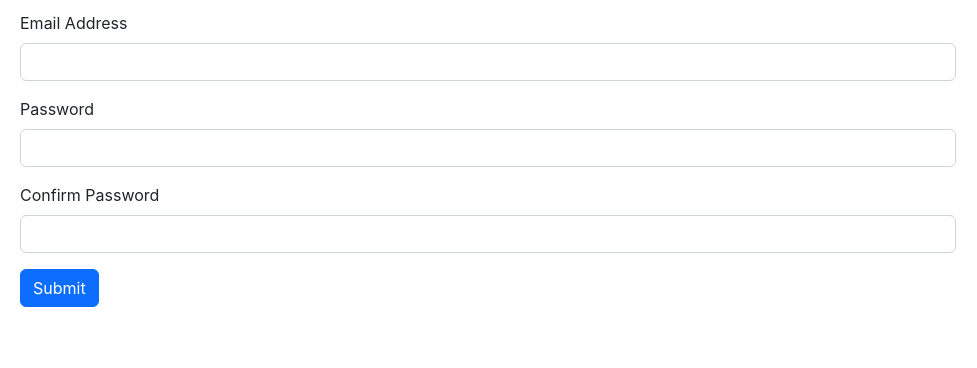
App component › Error handling › show a password error message if password is too short and email is valid
Check: the text "Your password is too short, it must be at least 5 characters." is not shown
Type "test@test.com" into the field.
click(488, 62); type("test@test.com")  # box [20,43,956,81]
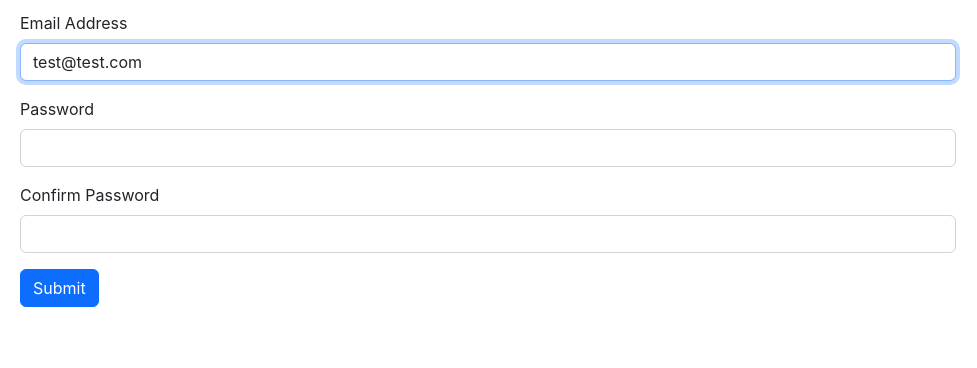
Type "test" into the password field labelled "Password".
click(488, 148); type("test")  # box [20,129,956,167]
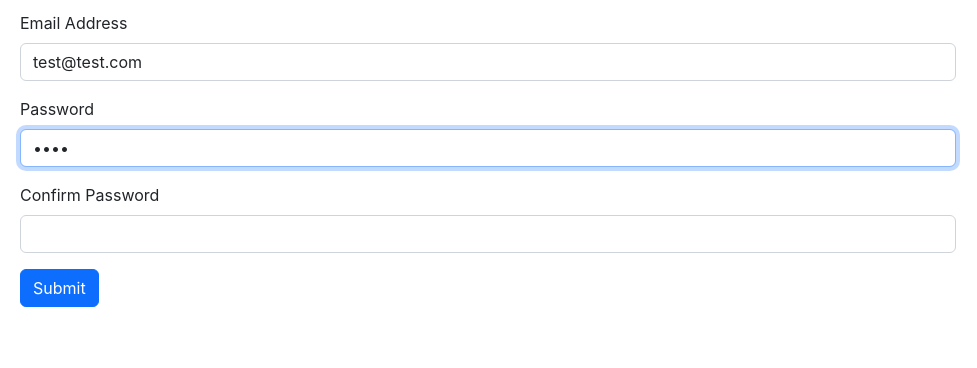
Click the button "Submit".
click(59, 288)  # box [20,269,99,307]
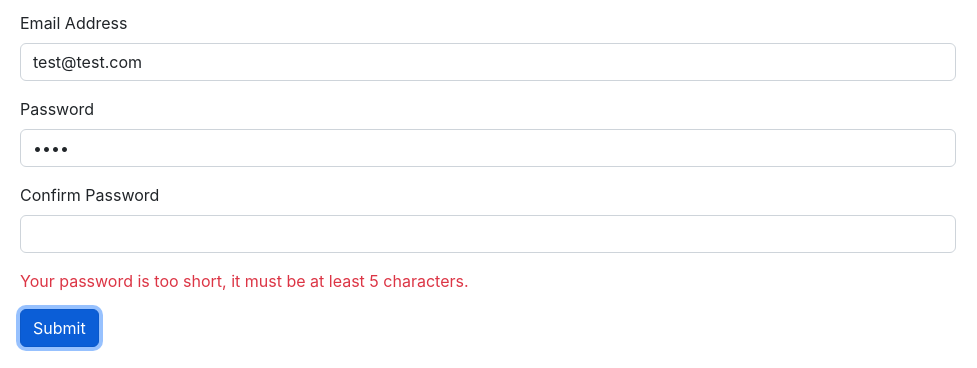
Check: the text "Your password is too short, it must be at least 5 characters." is shown, box [20,271,468,291]
